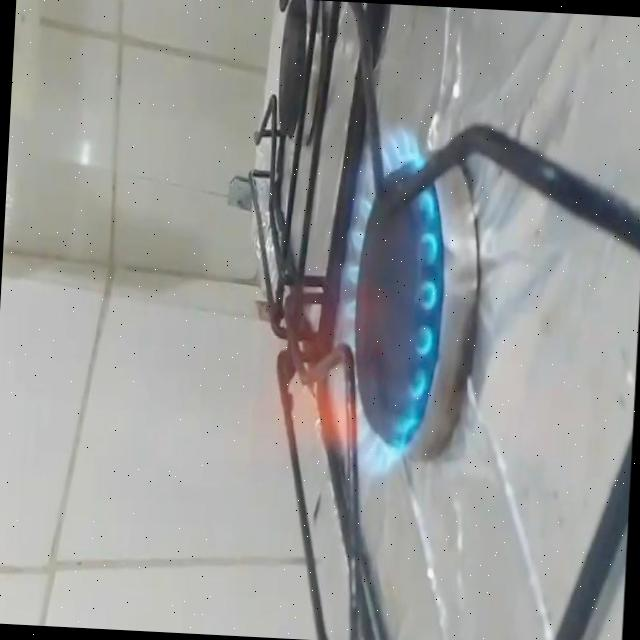fire: (263, 111, 448, 493)
